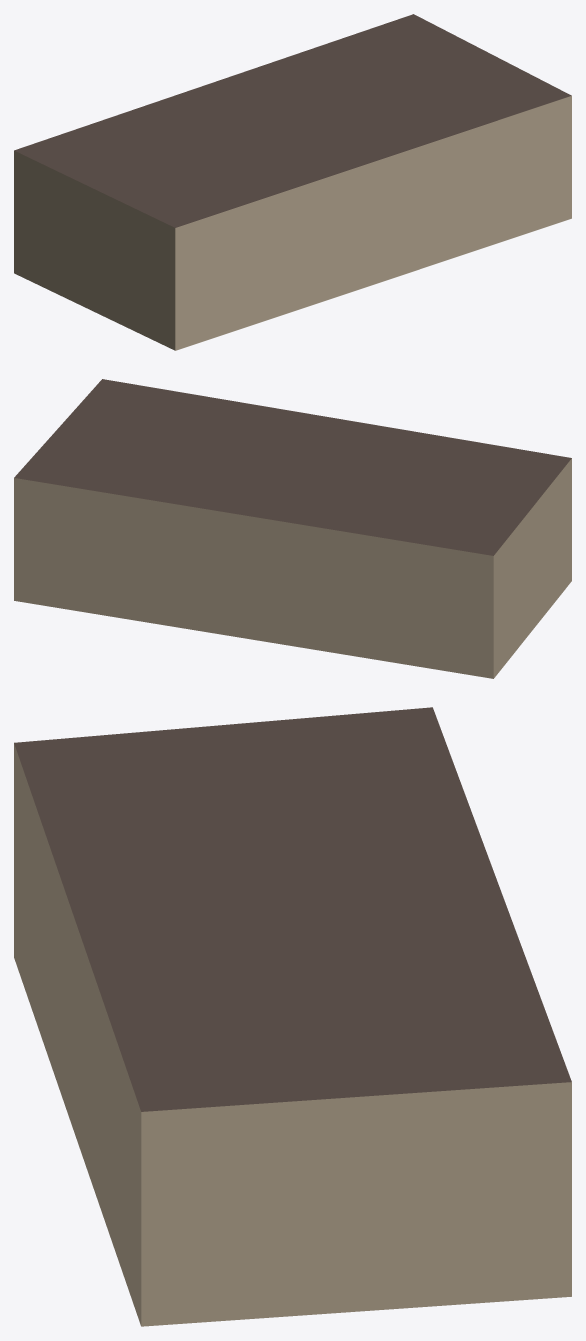
3 renders of one model, top to bottom at view 1: azimuth 30°, elevation 25°; view 2: azimuth 150°, elevation 25°; view 3: azimuth 270°, elevation 25°, orthographic. The views are drawn at different scales.
Visible parts, largest first — view 1: HP-w1512914158; view 2: HP-w1512914158; view 3: HP-w1512914158.
Boxes of the visible parts, bbox=[...] form: HP-w1512914158: bbox=[14, 14, 571, 350]; HP-w1512914158: bbox=[14, 379, 571, 678]; HP-w1512914158: bbox=[14, 707, 571, 1326].
Bounding box in the file's own units: 36.38 × 9 × 21.2.
